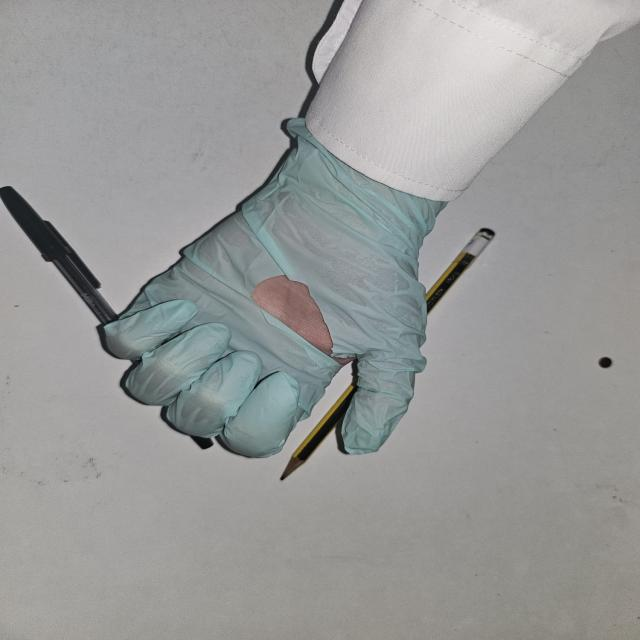gloves_damaged: (94, 110, 433, 464)
